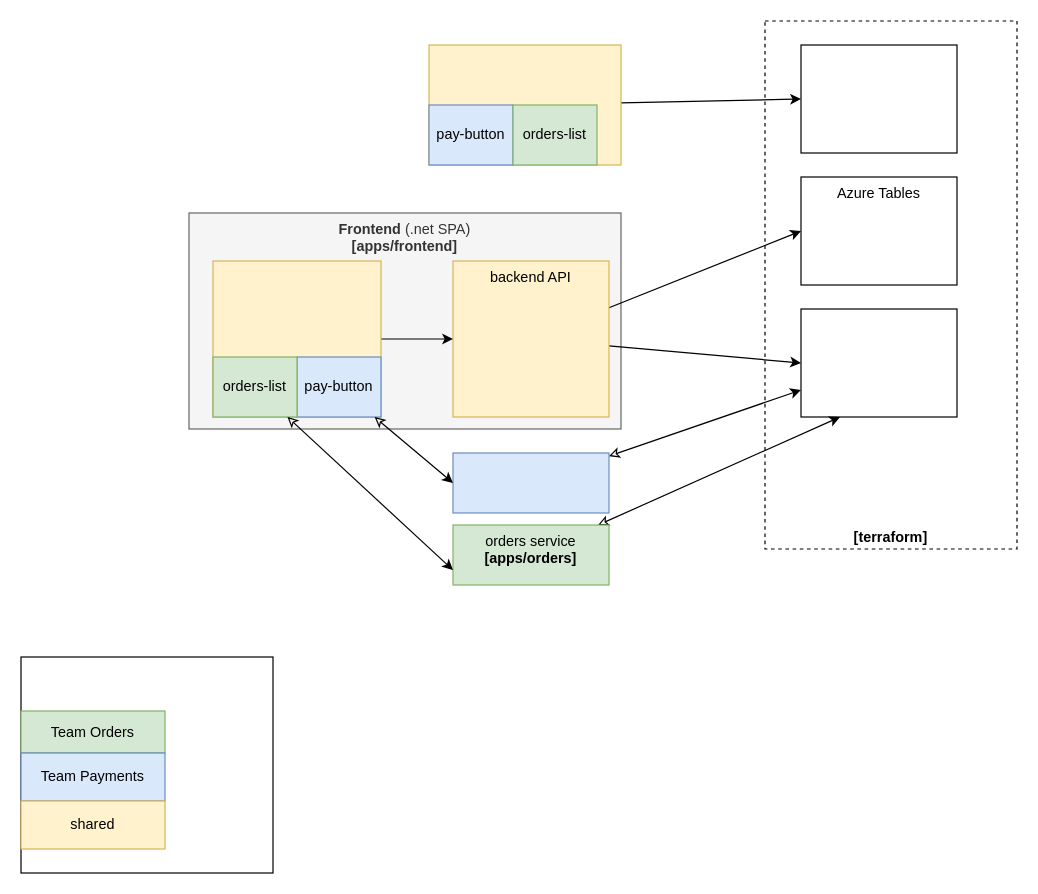
This 1038x894 diagram has some shape labels left out. The box of each missing label's shape, as (x1, y1, x2, y2) in pixels:
Azure Blob [services/azureite]: (800, 44, 957, 153)
Azure ServiceBus: (800, 308, 957, 417)
ClientApp: (212, 260, 381, 417)
Legend: (20, 656, 273, 873)
OC Registry [apps/open-components]: (428, 44, 621, 165)
payments service [apps/payments]: (452, 452, 609, 513)
